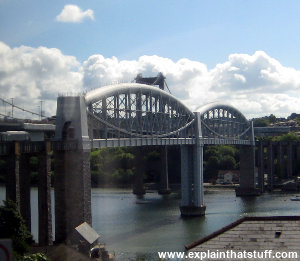bridge: (7, 82, 300, 147)
